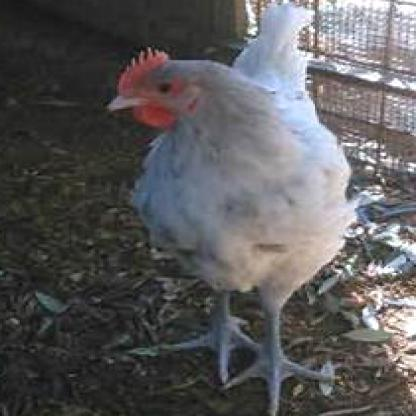chicken: (105, 3, 361, 414)
